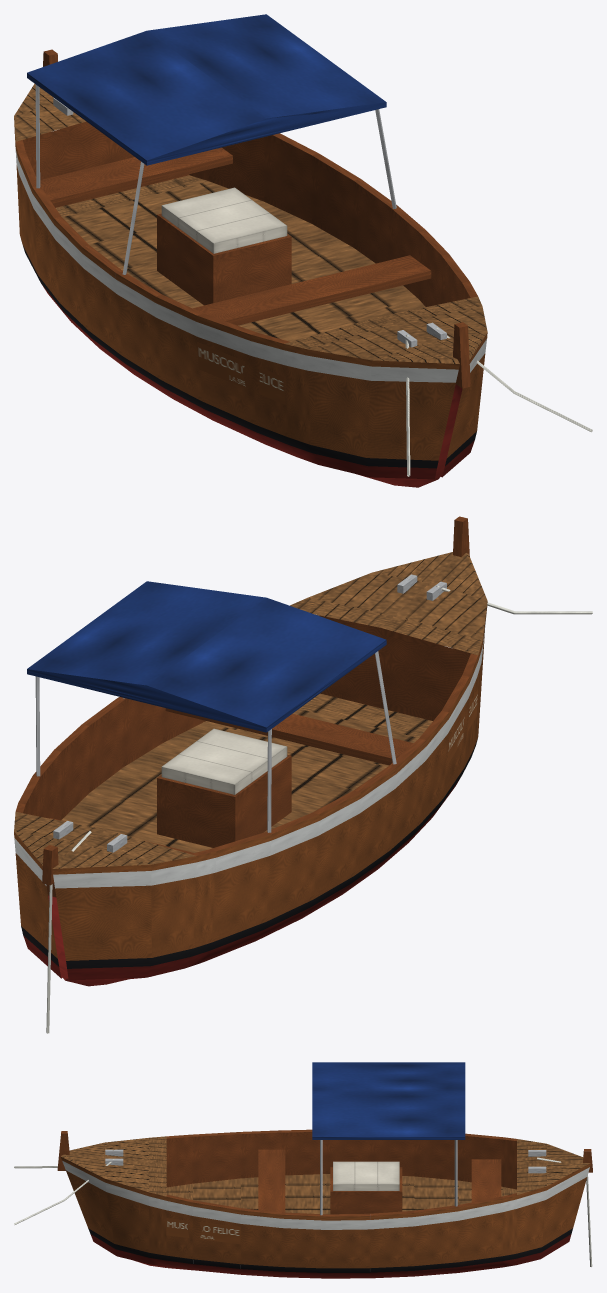
The model's file is SM_Morin_Barca_Gozzo_Legno_Prua.fbx.
3 views of the same model, one above another, from view 1: azimuth 30°, elevation 25°; view 2: azimuth 150°, elevation 25°; view 3: azimuth 270°, elevation 25° (orthographic). The views are drawn at different scales.
Visible parts, largest first — view 1: SM_Morin_Barca_Gozzo_Legno_Prua; view 2: SM_Morin_Barca_Gozzo_Legno_Prua; view 3: SM_Morin_Barca_Gozzo_Legno_Prua.
Boxes of the visible parts, box(x1,y1,x2,y2) form: SM_Morin_Barca_Gozzo_Legno_Prua: box(14, 14, 592, 487); SM_Morin_Barca_Gozzo_Legno_Prua: box(14, 516, 592, 1033); SM_Morin_Barca_Gozzo_Legno_Prua: box(14, 1062, 592, 1278).
Bounding box in the file's own units: 229 × 644 × 222.
1 material, 1 textured.
